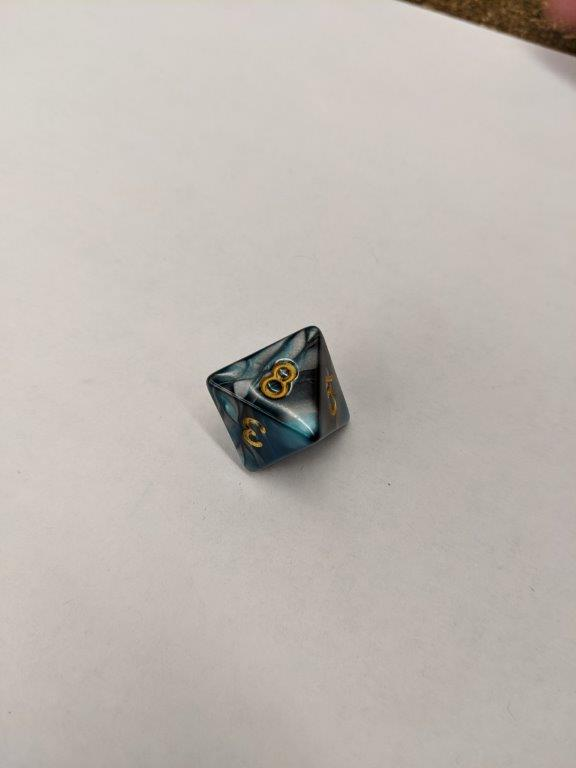d8-8: (208, 324, 349, 473)
